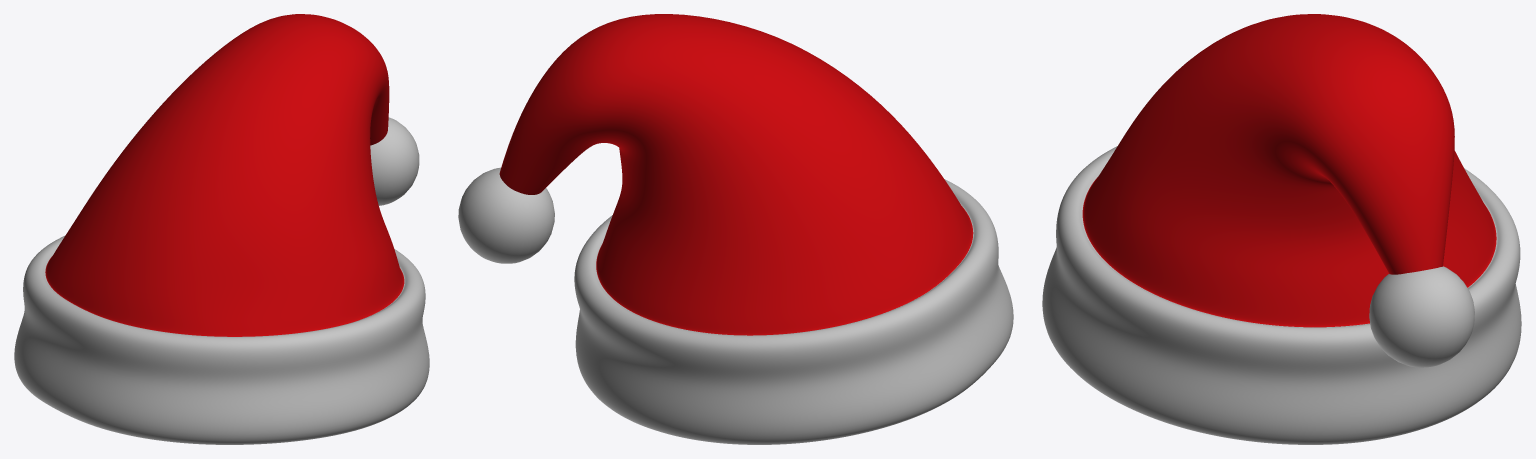
Rendered from santa hat.obj.
3 views of the same model, side by side, from view 1: azimuth 30°, elevation 25°; view 2: azimuth 150°, elevation 25°; view 3: azimuth 270°, elevation 25° (orthographic). The views are drawn at different scales.
Visible parts, largest first — view 1: Circle.002, Sphere.007_Sphere.005; view 2: Circle.002, Sphere.007_Sphere.005; view 3: Circle.002, Sphere.007_Sphere.005.
Part boxes in pixels (left/top/right/bottom): Circle.002: left=14, top=14, right=429, bottom=444; Sphere.007_Sphere.005: left=370, top=117, right=419, bottom=205; Circle.002: left=499, top=14, right=1013, bottom=444; Sphere.007_Sphere.005: left=458, top=167, right=554, bottom=263; Circle.002: left=1042, top=14, right=1521, bottom=444; Sphere.007_Sphere.005: left=1369, top=266, right=1474, bottom=367.
Size of the model in its own units: 3.36 by 2.42 by 2.81.
